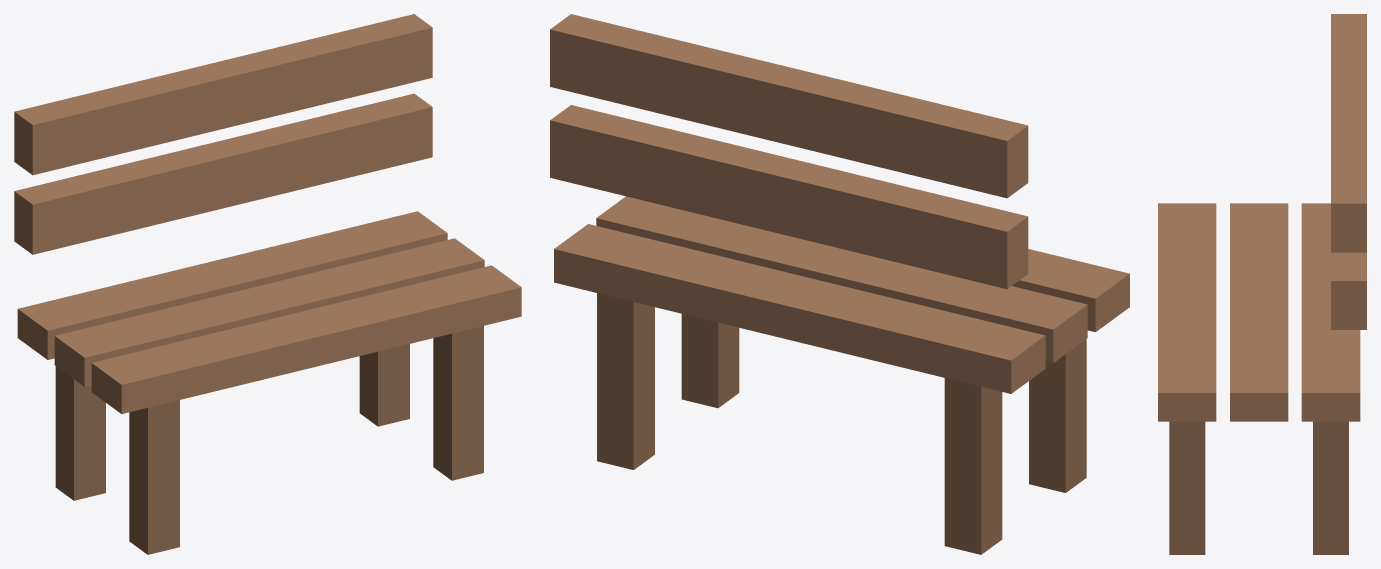
Rendered from bench.glb.
The picture shows the model from 3 angles, left to right: view 1: azimuth 30°, elevation 25°; view 2: azimuth 150°, elevation 25°; view 3: azimuth 270°, elevation 25°; orthographic projection. The views are drawn at different scales.
Visible parts, largest first — view 1: _MeshInstance3D_236, _MeshInstance3D_237, _MeshInstance3D_235, _MeshInstance3D_234, _MeshInstance3D_233, _MeshInstance3D_230, _MeshInstance3D_232, _MeshInstance3D_229, _MeshInstance3D_231; view 2: _MeshInstance3D_237, _MeshInstance3D_236, _MeshInstance3D_233, _MeshInstance3D_234, _MeshInstance3D_229, _MeshInstance3D_231, _MeshInstance3D_230, _MeshInstance3D_235, _MeshInstance3D_232; view 3: _MeshInstance3D_234, _MeshInstance3D_235, _MeshInstance3D_233, _MeshInstance3D_237, _MeshInstance3D_232, _MeshInstance3D_231, _MeshInstance3D_236.
Boxes of the visible parts, <box> form: _MeshInstance3D_236: <box>14,93,432,254</box>; _MeshInstance3D_237: <box>14,14,432,175</box>; _MeshInstance3D_235: <box>91,265,521,413</box>; _MeshInstance3D_234: <box>54,238,484,386</box>; _MeshInstance3D_233: <box>17,211,447,359</box>; _MeshInstance3D_230: <box>129,400,179,554</box>; _MeshInstance3D_232: <box>433,326,483,480</box>; _MeshInstance3D_229: <box>55,366,105,500</box>; _MeshInstance3D_231: <box>359,344,409,426</box>; _MeshInstance3D_237: <box>550,14,1028,198</box>; _MeshInstance3D_236: <box>550,105,1028,289</box>; _MeshInstance3D_233: <box>554,224,1045,393</box>; _MeshInstance3D_234: <box>596,196,1087,362</box>; _MeshInstance3D_229: <box>944,378,1002,554</box>; _MeshInstance3D_231: <box>597,293,654,469</box>; _MeshInstance3D_230: <box>1029,339,1086,492</box>; _MeshInstance3D_235: <box>1012,249,1129,331</box>; _MeshInstance3D_232: <box>681,314,739,408</box>; _MeshInstance3D_234: <box>1230,203,1288,421</box>; _MeshInstance3D_235: <box>1158,203,1216,421</box>; _MeshInstance3D_233: <box>1301,203,1360,421</box>; _MeshInstance3D_237: <box>1331,14,1366,252</box>; _MeshInstance3D_232: <box>1169,421,1205,554</box>; _MeshInstance3D_231: <box>1313,421,1348,554</box>; _MeshInstance3D_236: <box>1331,252,1366,329</box>.
Bounding box in the file's own units: 1 × 0.9 × 0.465.
